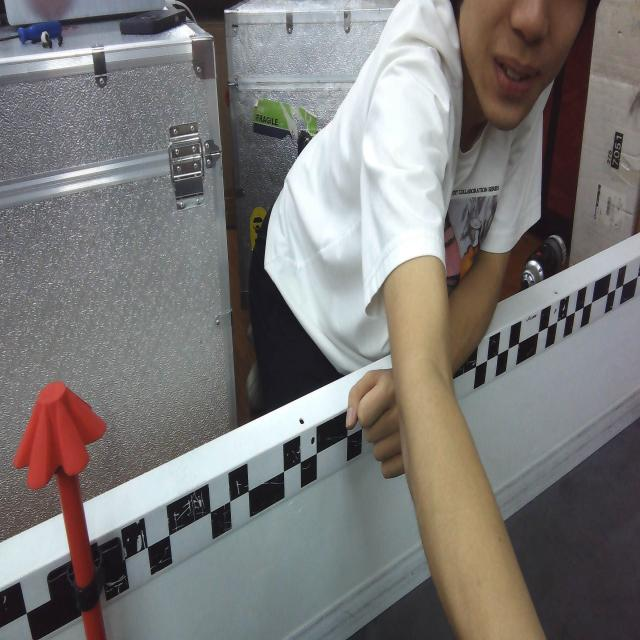zred-Stake-Head: (13, 381, 107, 490)
